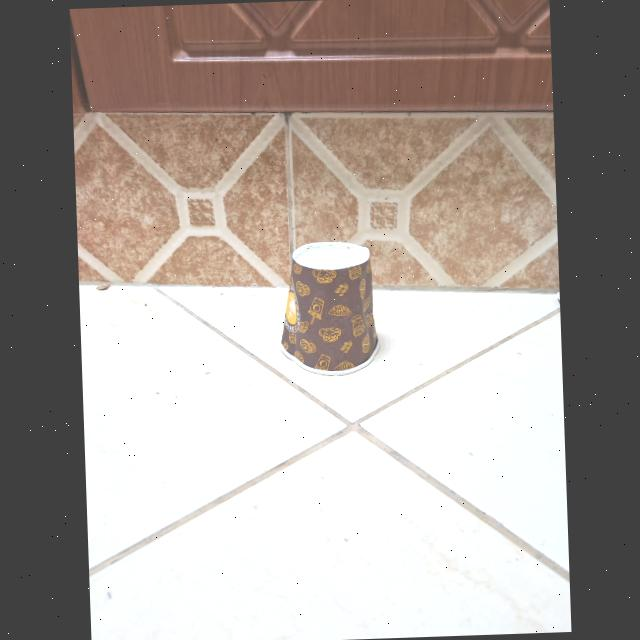trash: (277, 236, 380, 377)
